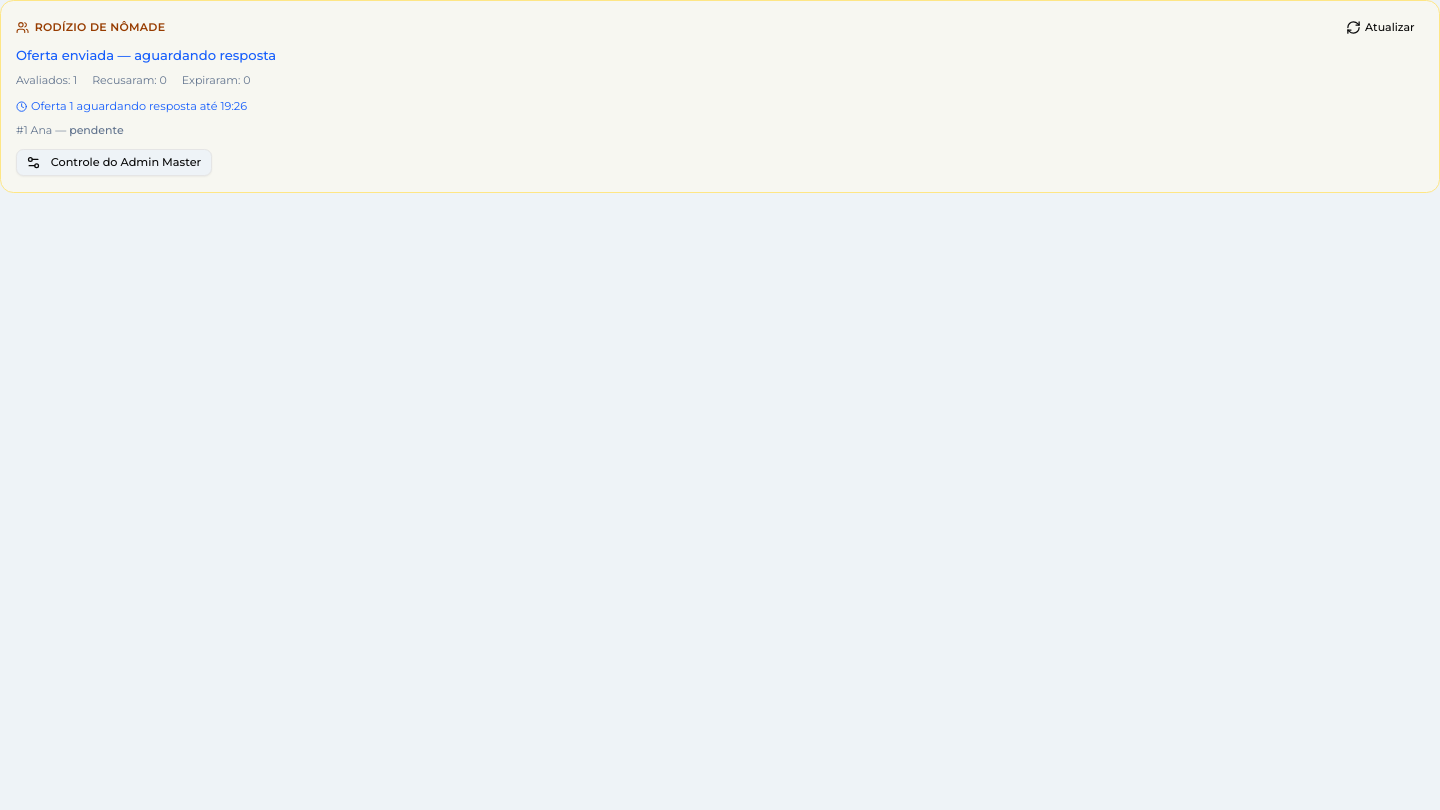
Test case: Admin Master pesquisa Nômades e identifica quem não está habilitado
The image size is (1440, 810).
Click the button "Controle do Admin Master" at (114, 163), box [16, 149, 212, 176]
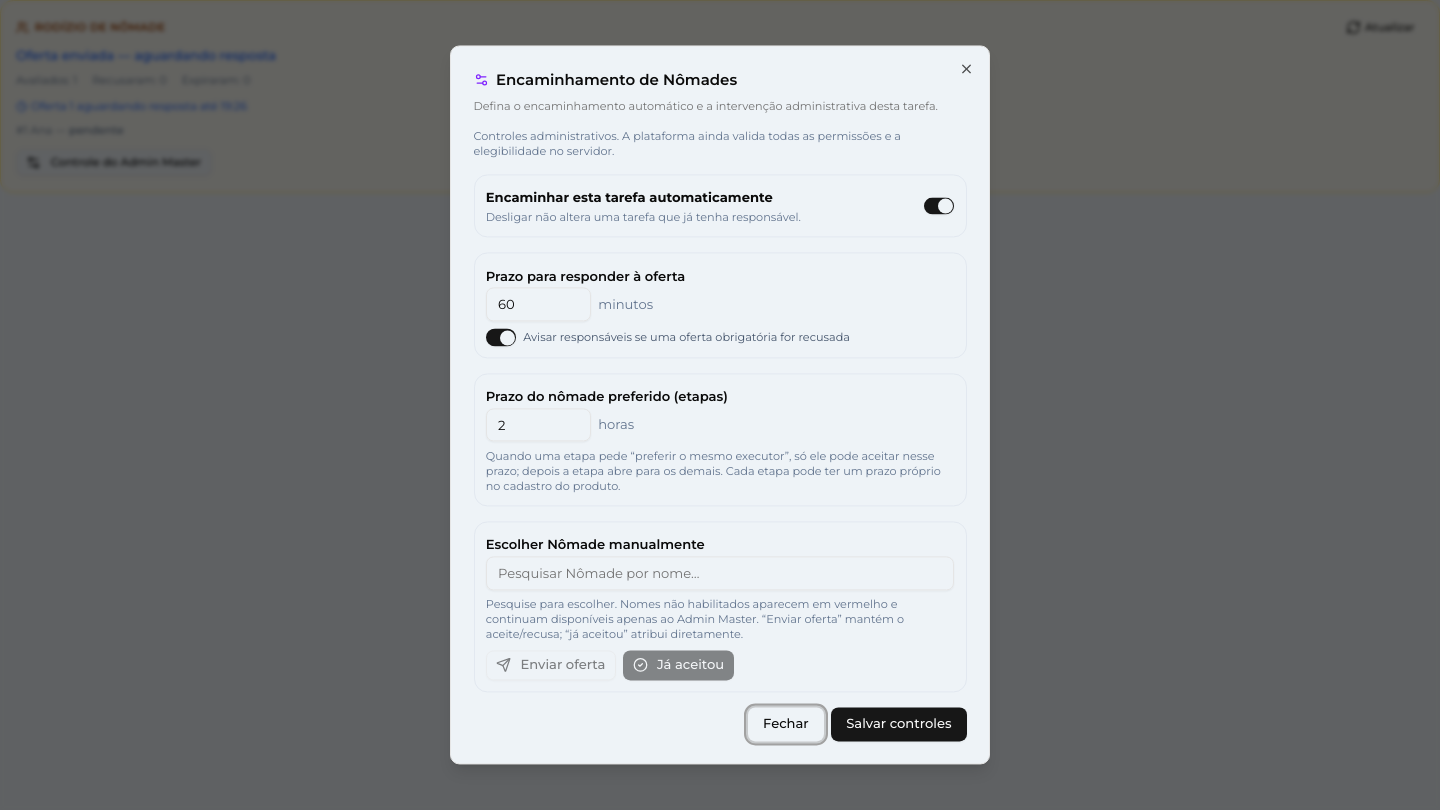
Type "exceção" into the field labelled "Escolher Nômade manualmente" at (720, 573), box [486, 556, 954, 590]
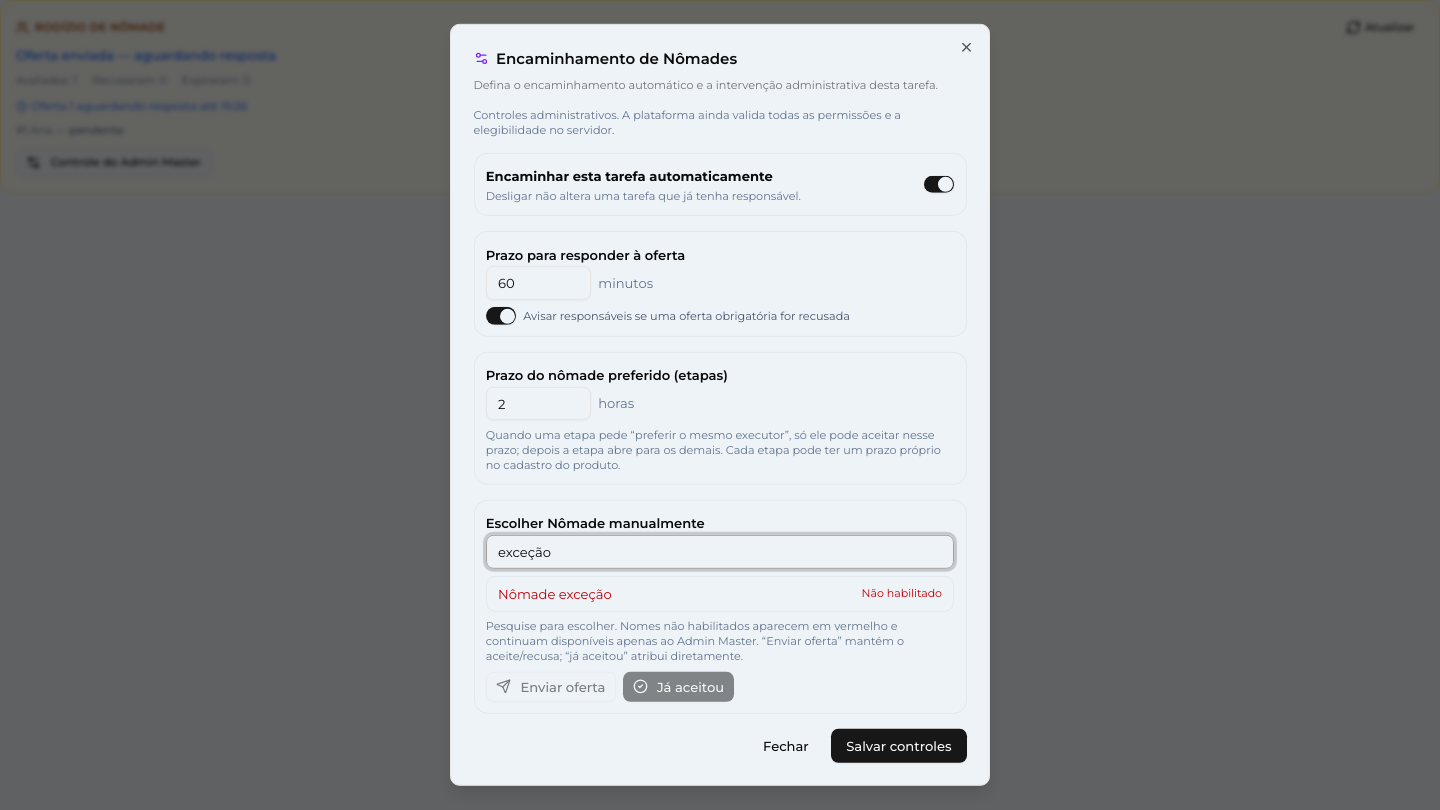
Result: the button "Nômade exceção Não habilitado" is shown at [487, 577, 953, 611]
